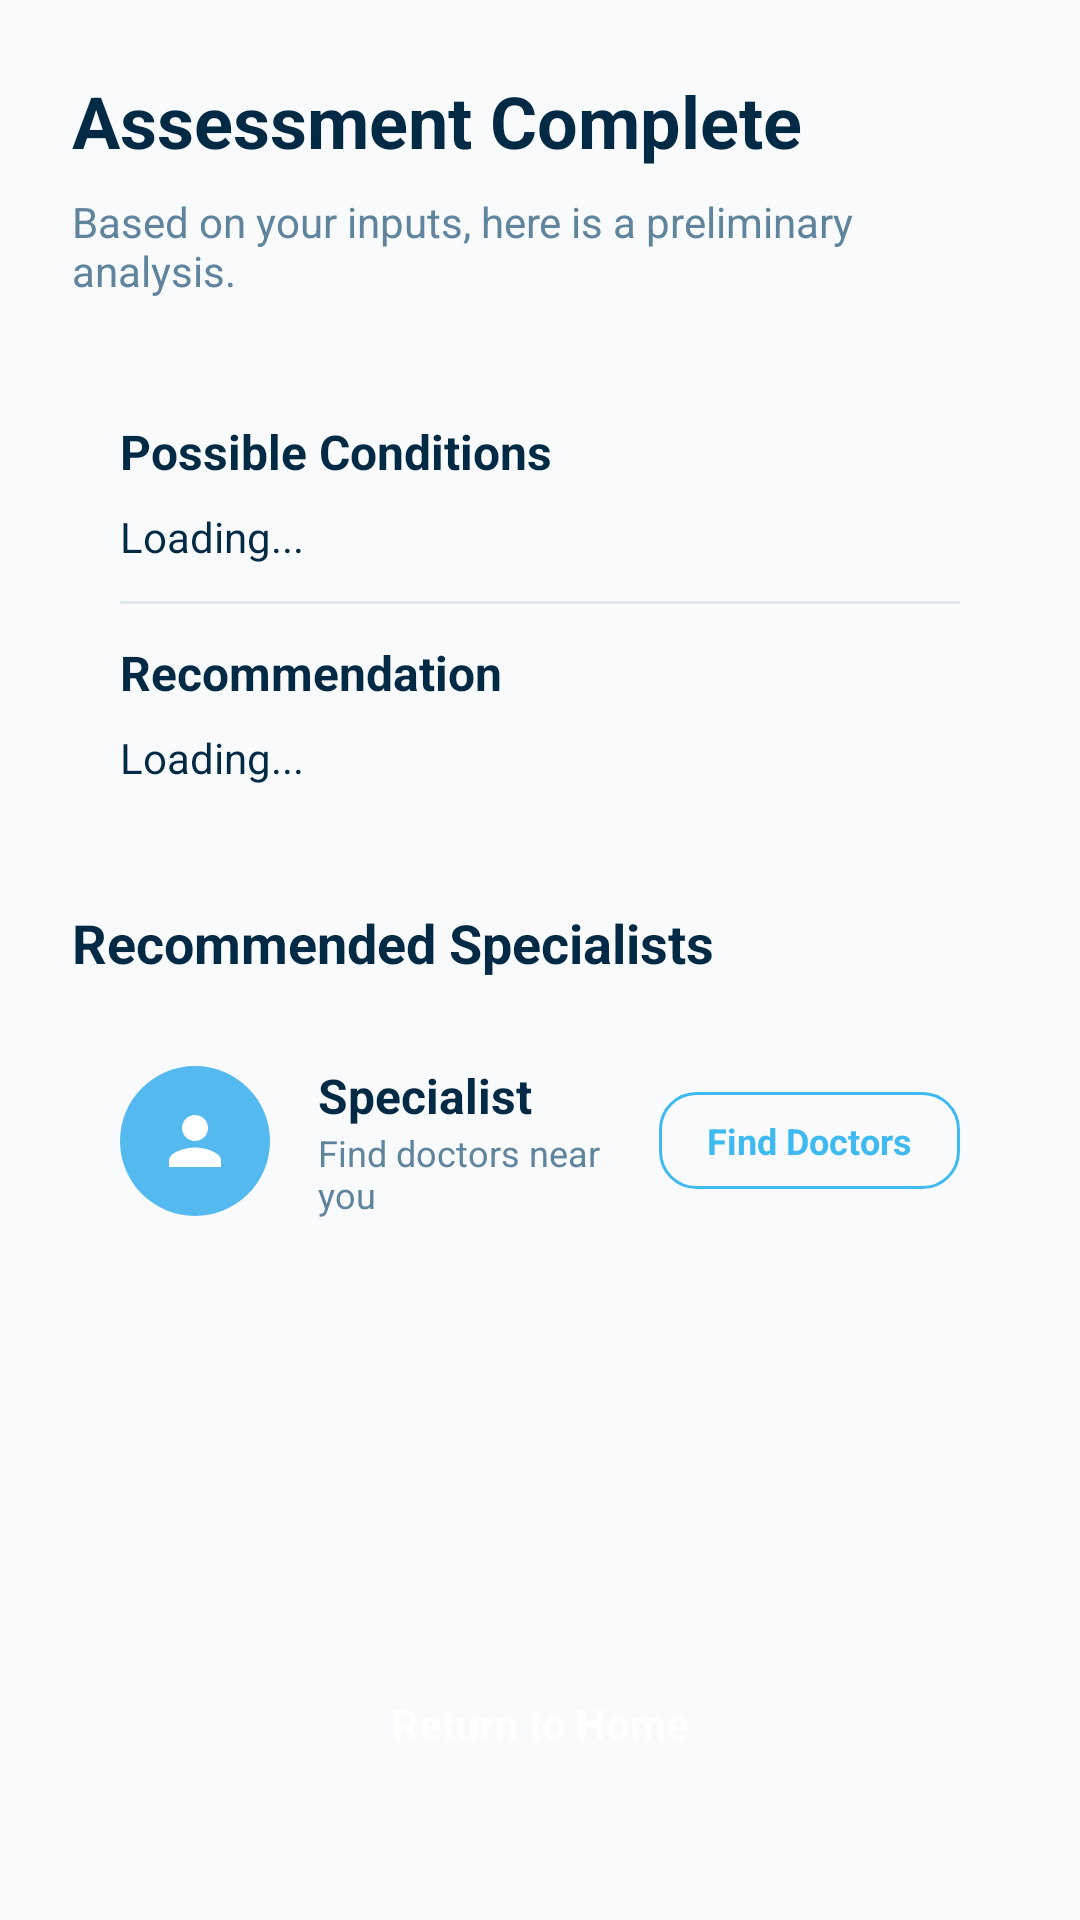

Where to tap for icons on this 1080 × 1920 app screen, as (x,y):
person: (195,1141)
